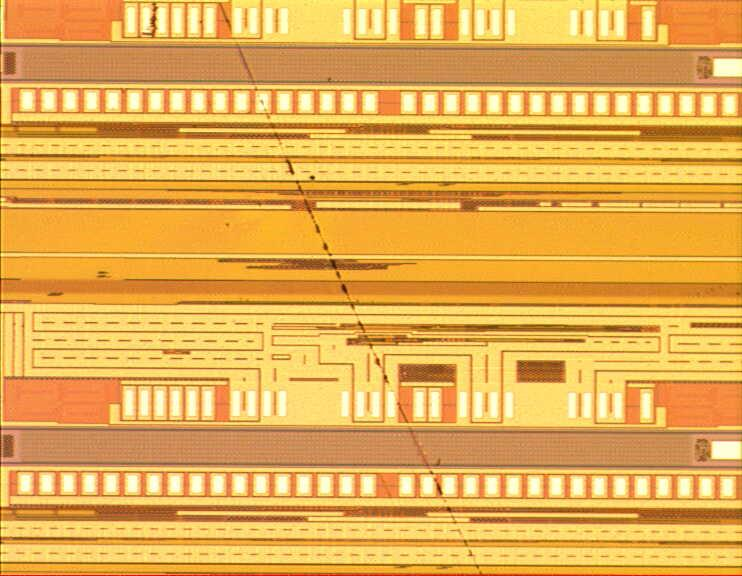SCRATCH: (211, 1, 487, 576)
